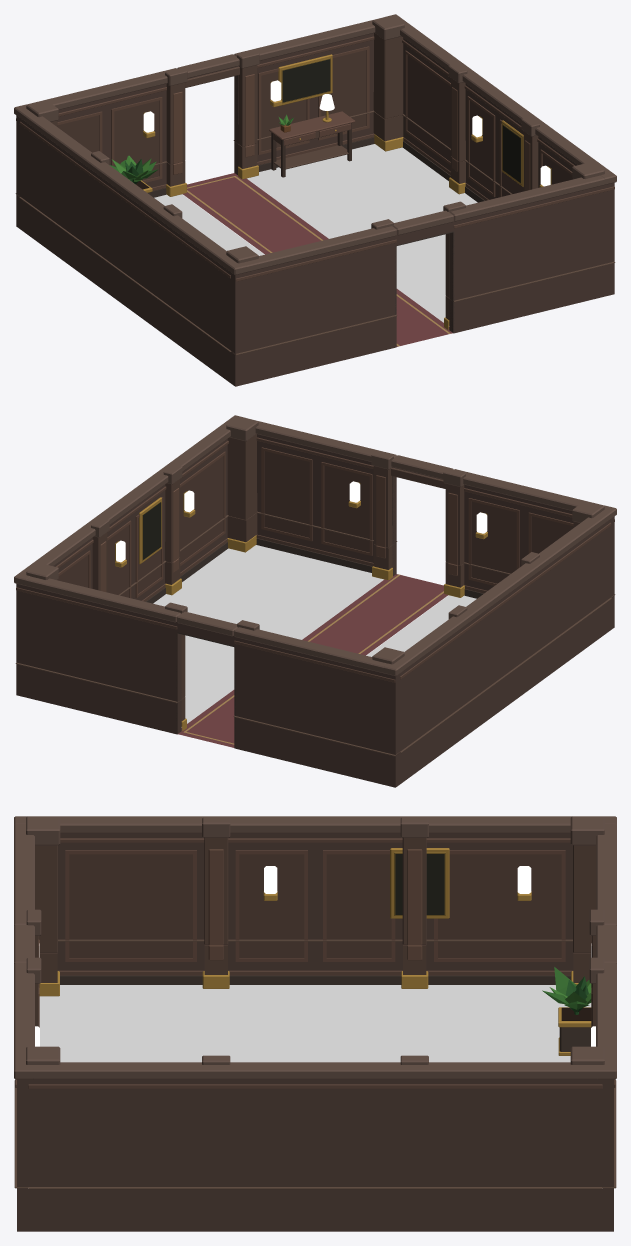
Rendered from corridorN.glb.
3 views of the same model, one above another, from view 1: azimuth 30°, elevation 25°; view 2: azimuth 150°, elevation 25°; view 3: azimuth 270°, elevation 25° (orthographic). The views are drawn at different scales.
Parts seen in each view (by area): view 1: static, floor, W_west_0_up, W_south_0_up, W_south_1_up, W_east_0_up, W_north_1_up, W_north_0_up; view 2: static, floor, W_west_0_up, W_north_0_up, W_north_1_up, W_south_1_up, W_east_0_up, W_south_0_up; view 3: W_east_0_up, W_west_0_up, static, floor, W_north_0_up, W_south_0_up, W_north_1_up, W_south_1_up.
Boxes of the visible parts, x1,y1,x2,y2 form: static: (15,92,615,386); floor: (154,144,477,346); W_west_0_up: (14,104,246,350); W_south_0_up: (226,210,453,353); W_south_1_up: (443,162,616,300); W_east_0_up: (385,14,616,193); W_north_1_up: (234,15,404,146); W_north_0_up: (14,54,239,196); static: (15,493,615,787); floor: (153,545,476,747); W_west_0_up: (384,505,616,751); W_north_0_up: (177,611,404,754); W_north_1_up: (14,563,187,701); W_south_1_up: (226,416,396,547); W_east_0_up: (14,415,245,594); W_south_0_up: (391,455,616,597); W_east_0_up: (14,1055,616,1186); W_west_0_up: (14,816,616,945); static: (14,939,616,1231); floor: (39,985,591,1062); W_north_0_up: (570,816,616,987); W_south_0_up: (14,816,60,987); W_north_1_up: (570,957,616,1186); W_south_1_up: (14,957,60,1186).
Bounding box in the file's own units: 8.08 × 2.48 × 8.08.
